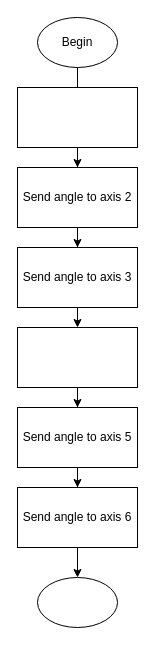
This 155x645 diagram has some shape labels left out. The centre of each missing label's shape, as x and y in pixels:
"End" goes at (77,602).
"Send angle to axis 1" goes at (77,117).
"Send angle to axis 4" goes at (77,357).
